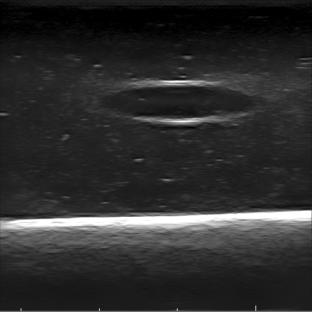vessel: (99, 79, 256, 126)
